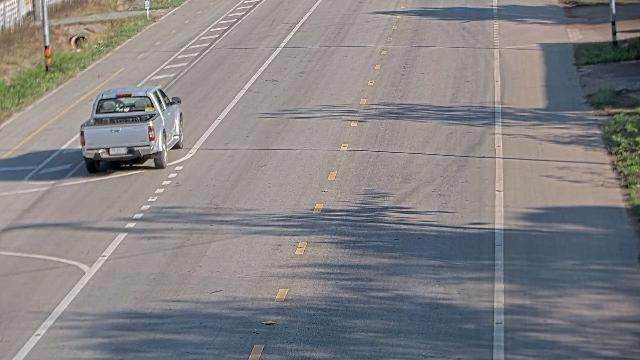pickup-truck: (79, 85, 184, 173)
